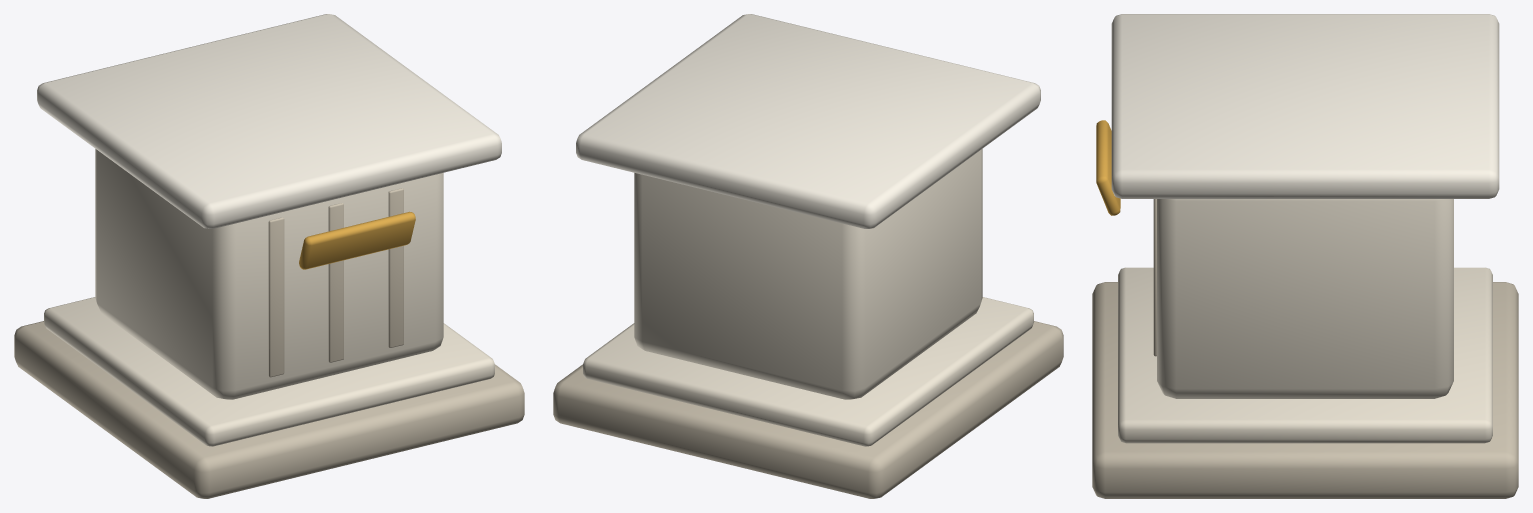
The model's file is fossil-pedestal.glb.
The picture shows the model from 3 angles, left to right: view 1: azimuth 30°, elevation 25°; view 2: azimuth 150°, elevation 25°; view 3: azimuth 270°, elevation 25°; orthographic projection. The views are drawn at different scales.
Parts seen in each view (by area): view 1: pedestal; view 2: pedestal; view 3: pedestal.
Part boxes in pixels (x1=…): pedestal: x1=14, y1=14, x2=524, y2=498; pedestal: x1=553, y1=14, x2=1063, y2=498; pedestal: x1=1092, y1=14, x2=1518, y2=498.
Size of the model in its own units: 0.66 by 0.55 by 0.66.
